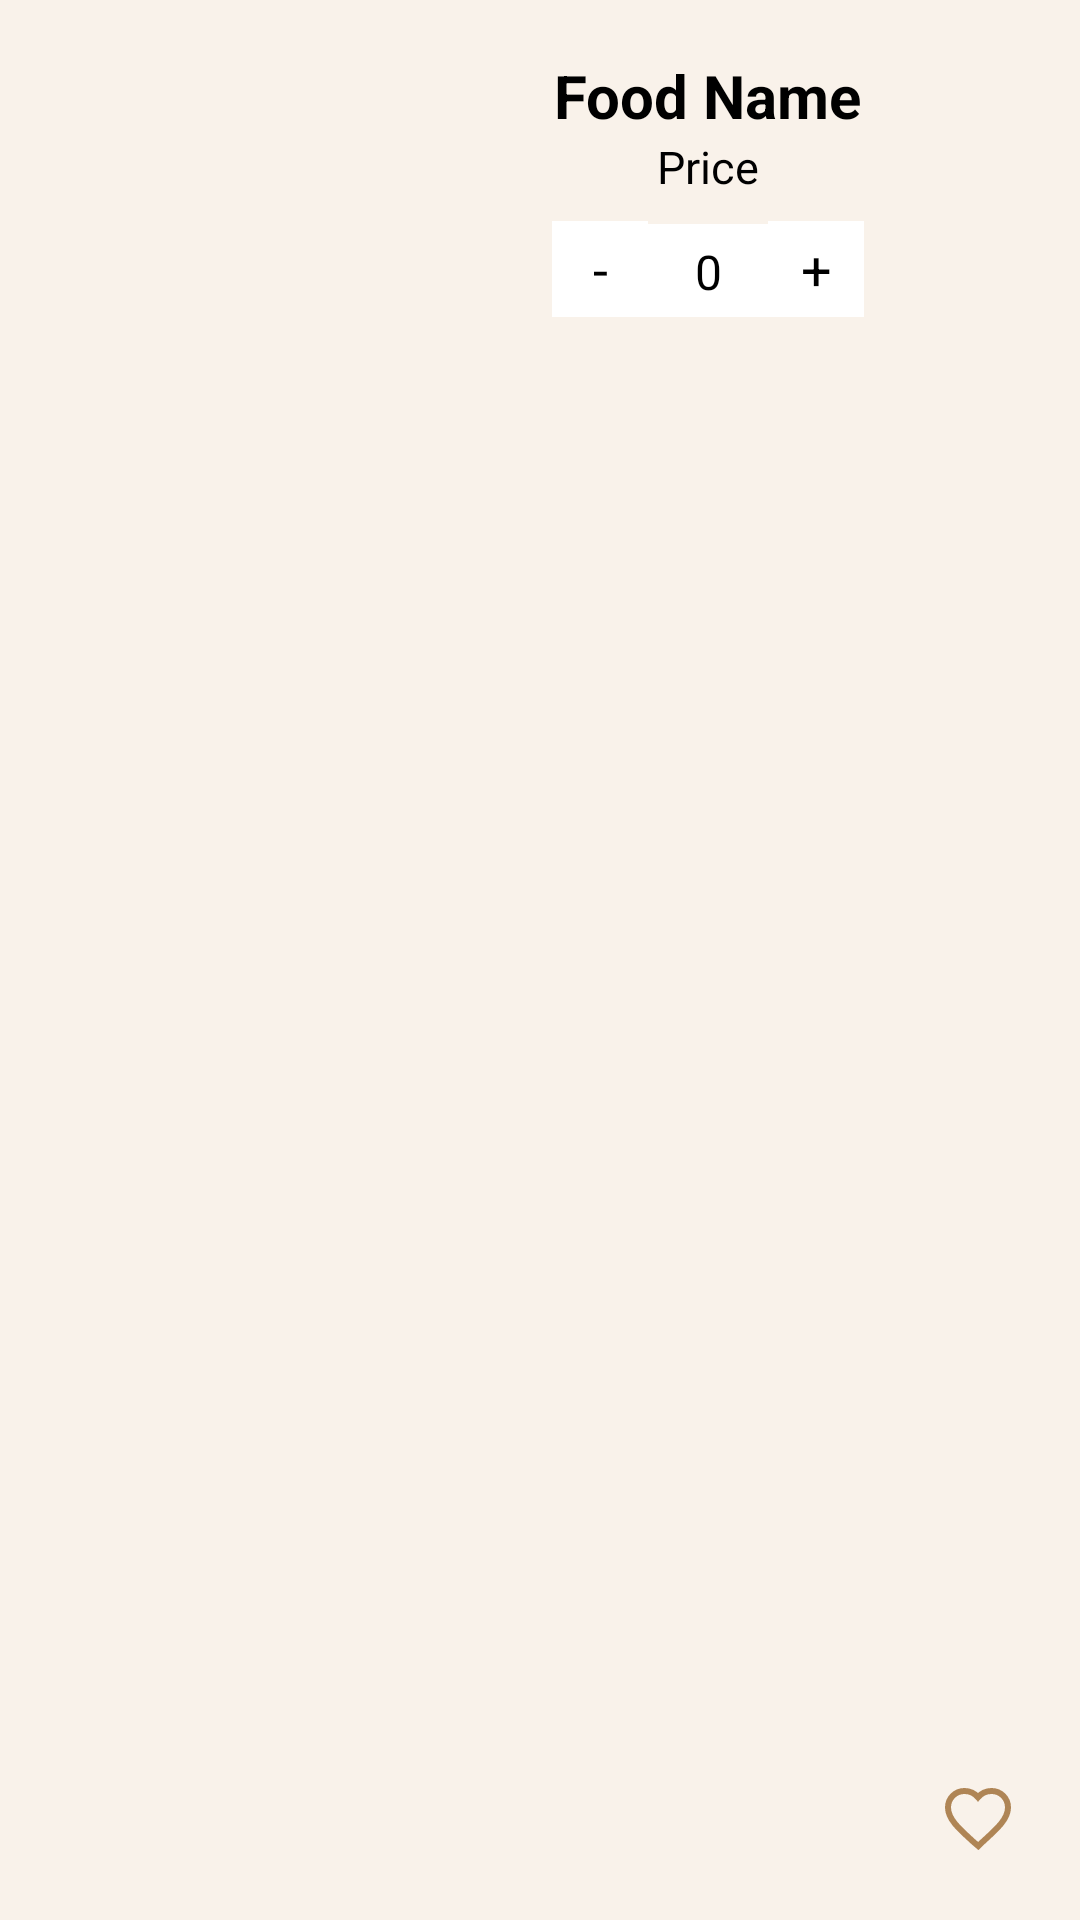

Point at icon controls on the screen. Image size 1080px×1920px, points as (x,y).
Favorite: (978,1819)
